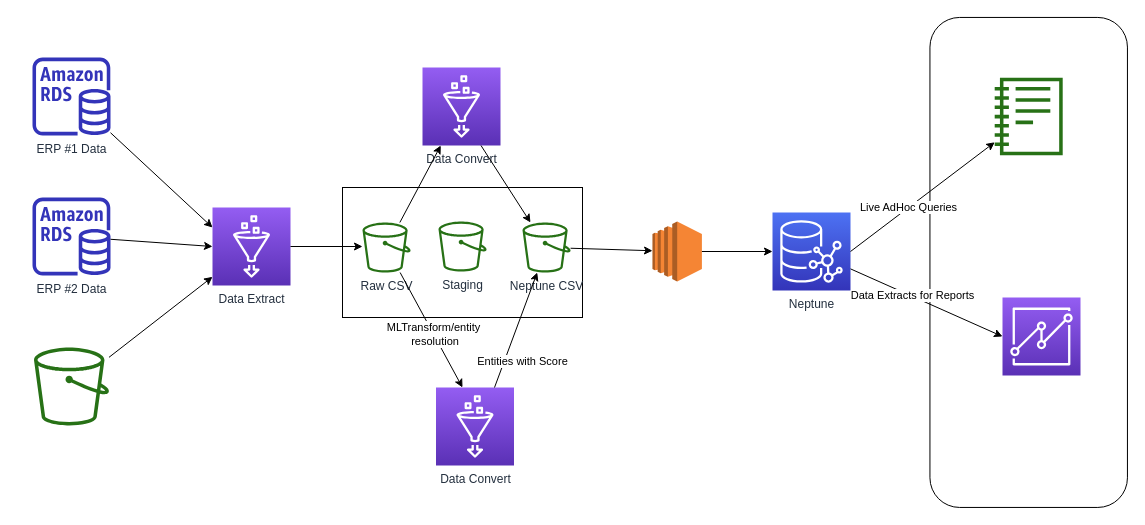
Some shapes in this 1145 by 525 pixel diagram are drawn without their labels. The box of each missing label's shape, as (x1, y1, x2, y2) in pixels:
Bulk Loader: (652, 220, 702, 282)
Jupyter Notebooks: (994, 77, 1062, 155)
QuickSight: (1002, 296, 1080, 376)
Social Media Feeds: (34, 347, 108, 425)
